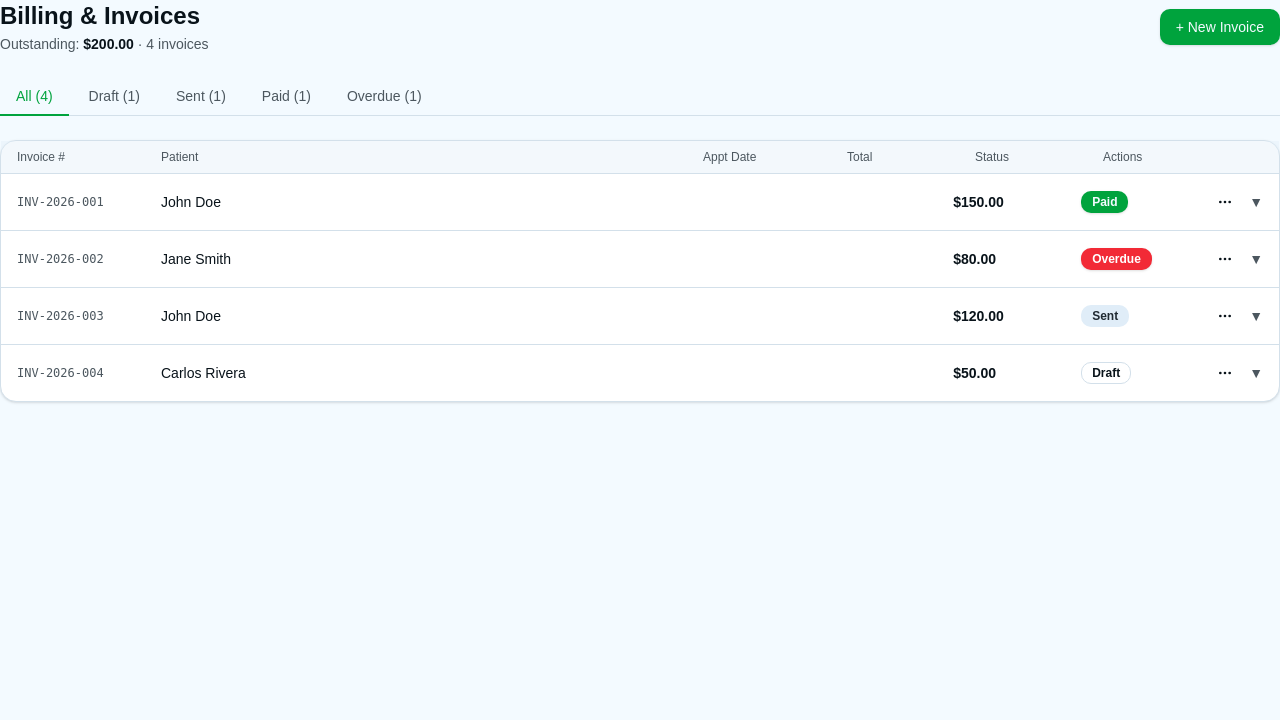
InvoicesPage (CC-90) › New Invoice button opens create side sheet with patient selector
Click the button "+ New Invoice" at (1220, 27), box [1160,9,1279,45]
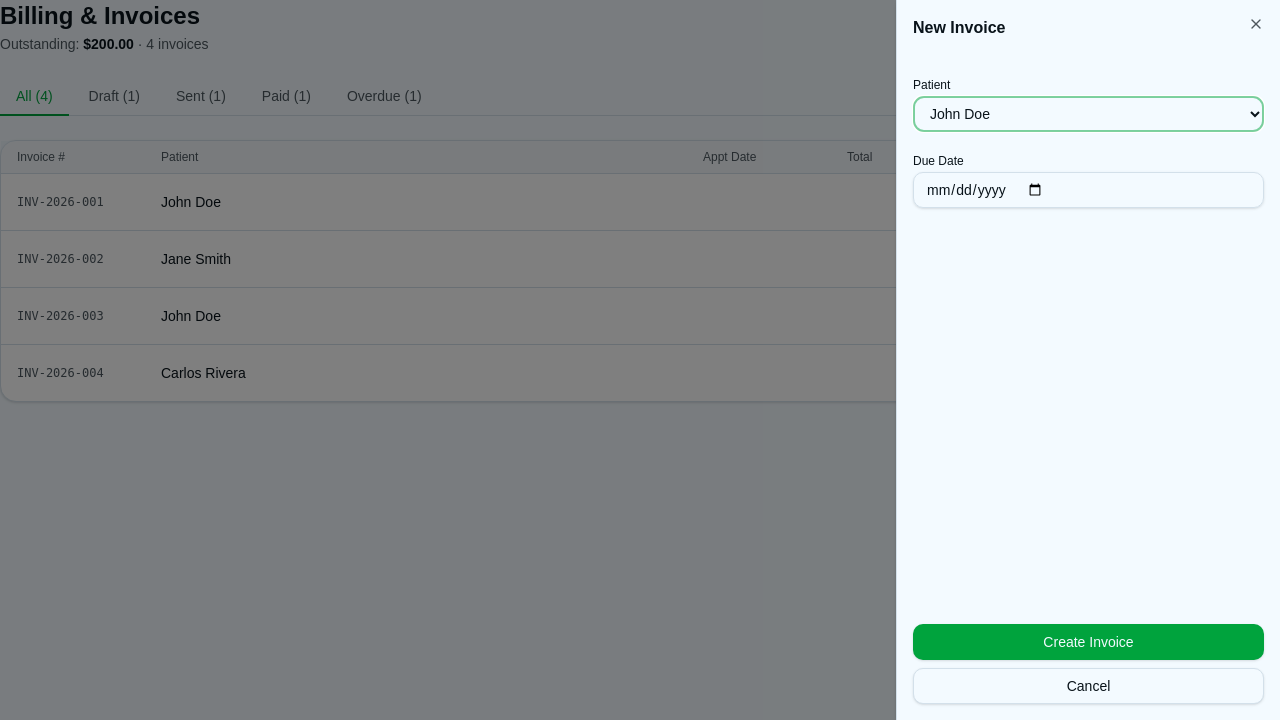
Now the dialog is shown, box [896,0,1279,719]
Now the dropdown named "select patient" is shown, box [913,96,1264,132]
Now the button "Create Invoice" is shown, box [913,624,1264,660]
